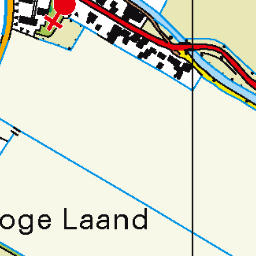church: (42, 1, 78, 35)
